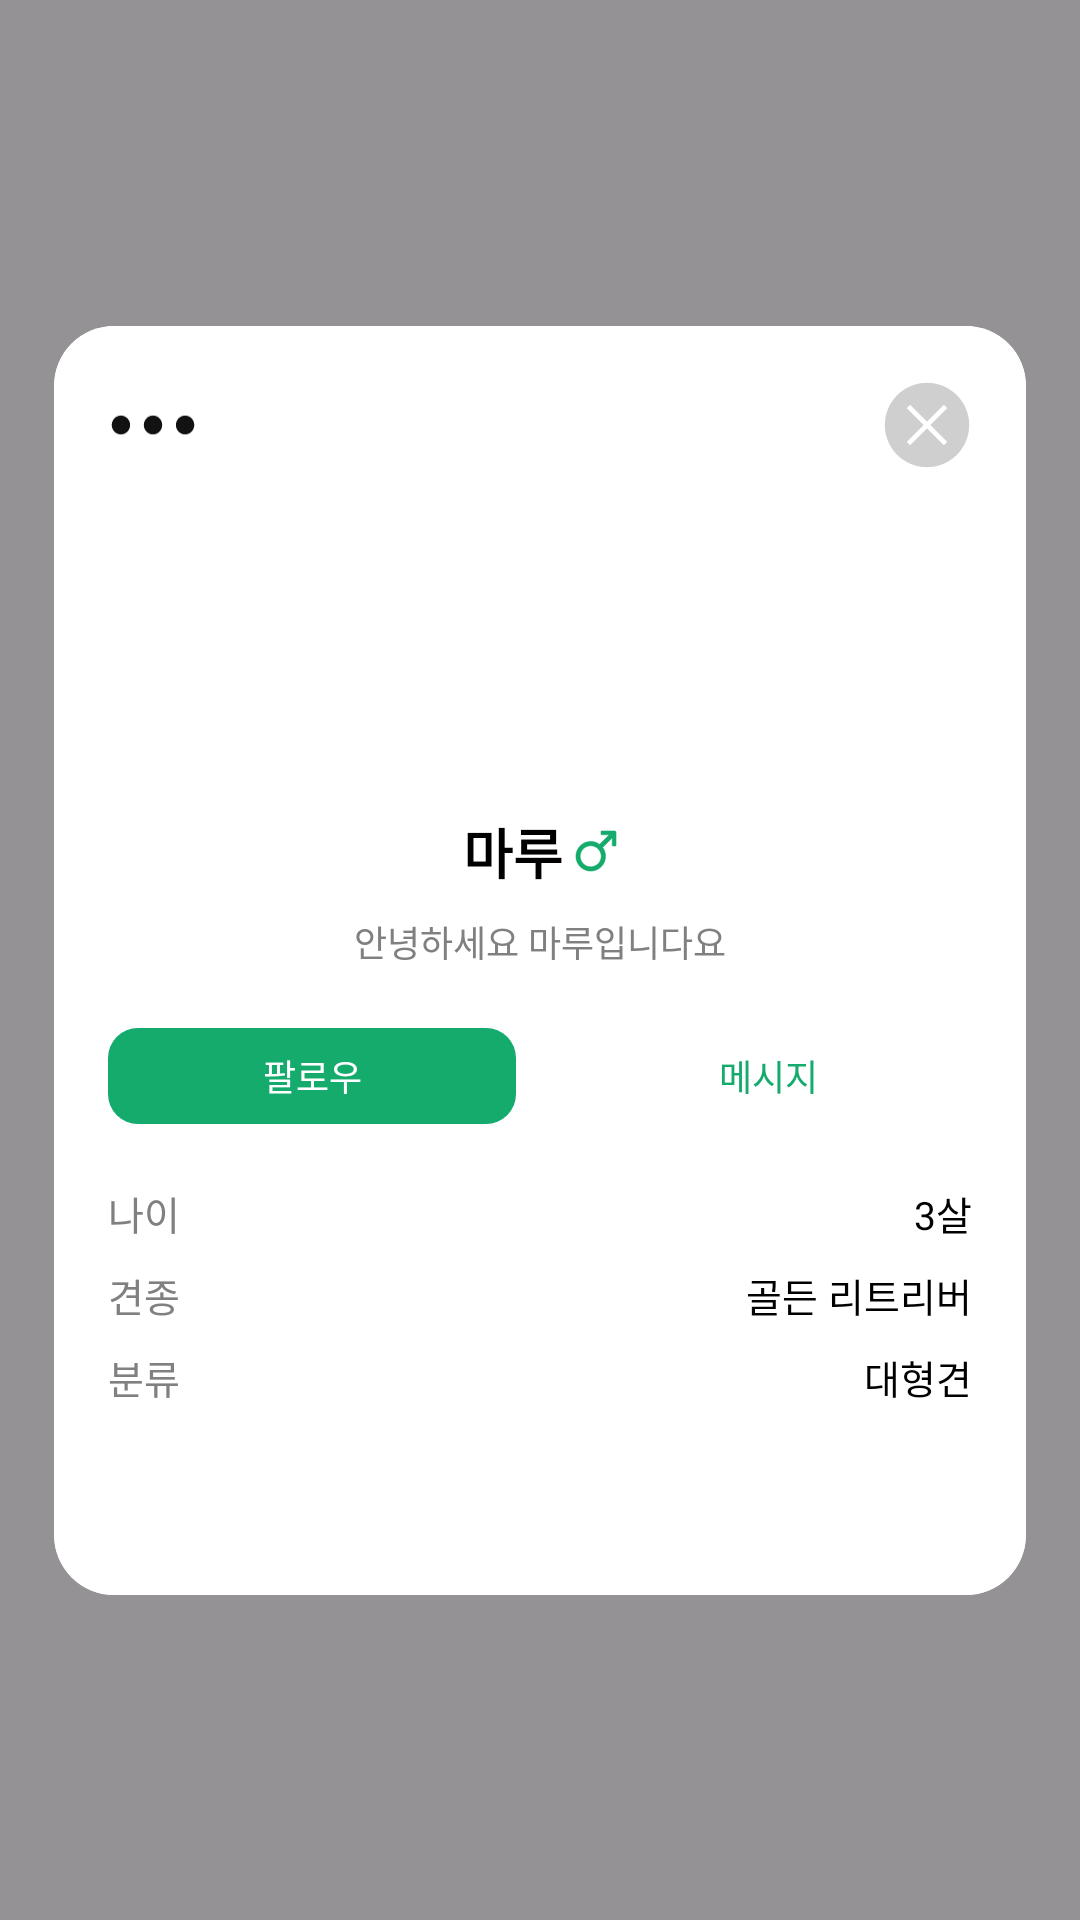

Screen size 1080*1920. Icon name, then its center in pixels as point (x, y):
닫기: point (927, 425)
성별: point (596, 851)
